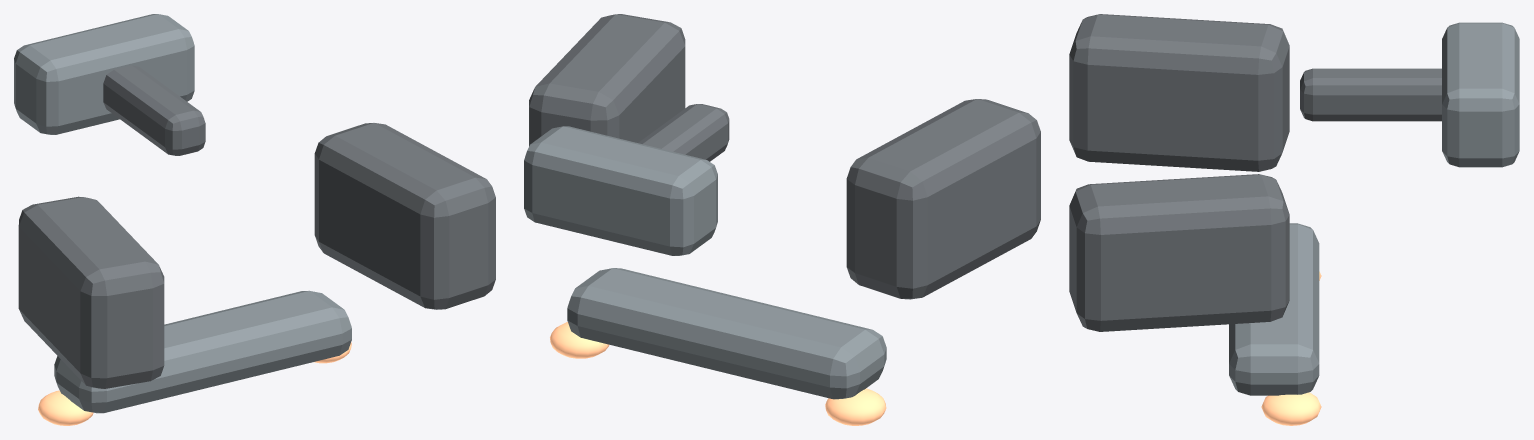
The model's file is hero_04_detail.glb.
3 renders of one model, left to right at view 1: azimuth 30°, elevation 25°; view 2: azimuth 150°, elevation 25°; view 3: azimuth 270°, elevation 25°, orthographic. The views are drawn at different scales.
Parts seen in each view (by area): view 1: Toren_TempleFlange_1, Toren_TempleFlange_-1, Toren_ForgedBrow, Toren_HammerCrestHead, Toren_HammerCrestHandle, Toren_Rivet_-1; view 2: Toren_TempleFlange_-1, Toren_ForgedBrow, Toren_HammerCrestHead, Toren_TempleFlange_1, Toren_HammerCrestHandle, Toren_Rivet_-1, Toren_Rivet_1; view 3: Toren_TempleFlange_-1, Toren_TempleFlange_1, Toren_HammerCrestHead, Toren_ForgedBrow, Toren_HammerCrestHandle, Toren_Rivet_1.
Part boxes in pixels (bbox=[...]): Toren_TempleFlange_1: bbox=[314, 123, 495, 309]; Toren_TempleFlange_-1: bbox=[18, 196, 164, 388]; Toren_ForgedBrow: bbox=[54, 290, 351, 413]; Toren_HammerCrestHead: bbox=[14, 14, 194, 134]; Toren_HammerCrestHandle: bbox=[103, 65, 205, 155]; Toren_Rivet_-1: bbox=[38, 390, 93, 425]; Toren_TempleFlange_-1: bbox=[846, 99, 1040, 299]; Toren_ForgedBrow: bbox=[567, 268, 886, 399]; Toren_HammerCrestHead: bbox=[524, 126, 717, 255]; Toren_TempleFlange_1: bbox=[529, 14, 685, 146]; Toren_HammerCrestHandle: bbox=[638, 104, 729, 161]; Toren_Rivet_-1: bbox=[825, 388, 886, 425]; Toren_Rivet_1: bbox=[550, 322, 609, 358]; Toren_TempleFlange_-1: bbox=[1069, 14, 1289, 171]; Toren_TempleFlange_1: bbox=[1069, 174, 1289, 331]; Toren_HammerCrestHead: bbox=[1442, 22, 1519, 167]; Toren_ForgedBrow: bbox=[1229, 223, 1319, 395]; Toren_HammerCrestHandle: bbox=[1300, 68, 1441, 121]; Toren_Rivet_1: bbox=[1261, 392, 1321, 425].
Bounding box in the file's own units: 0.5768 × 0.384 × 0.523.
